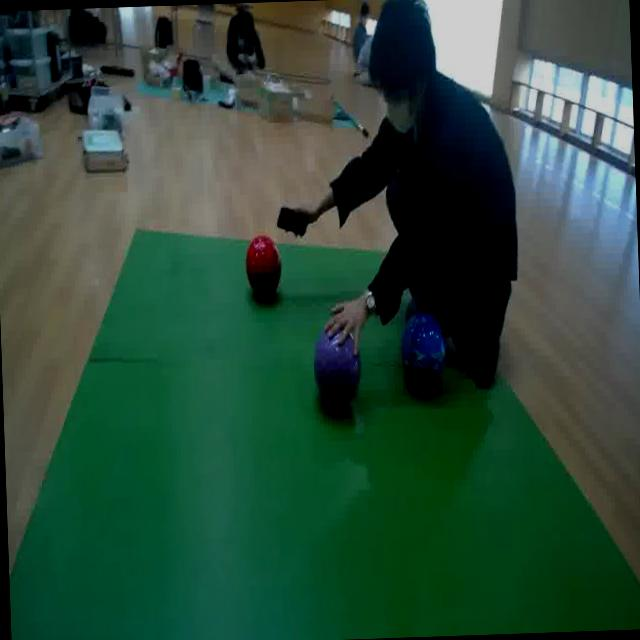blue_ball: (400, 312, 445, 392)
purple_ball: (312, 326, 360, 408)
red_ball: (245, 234, 282, 298)
